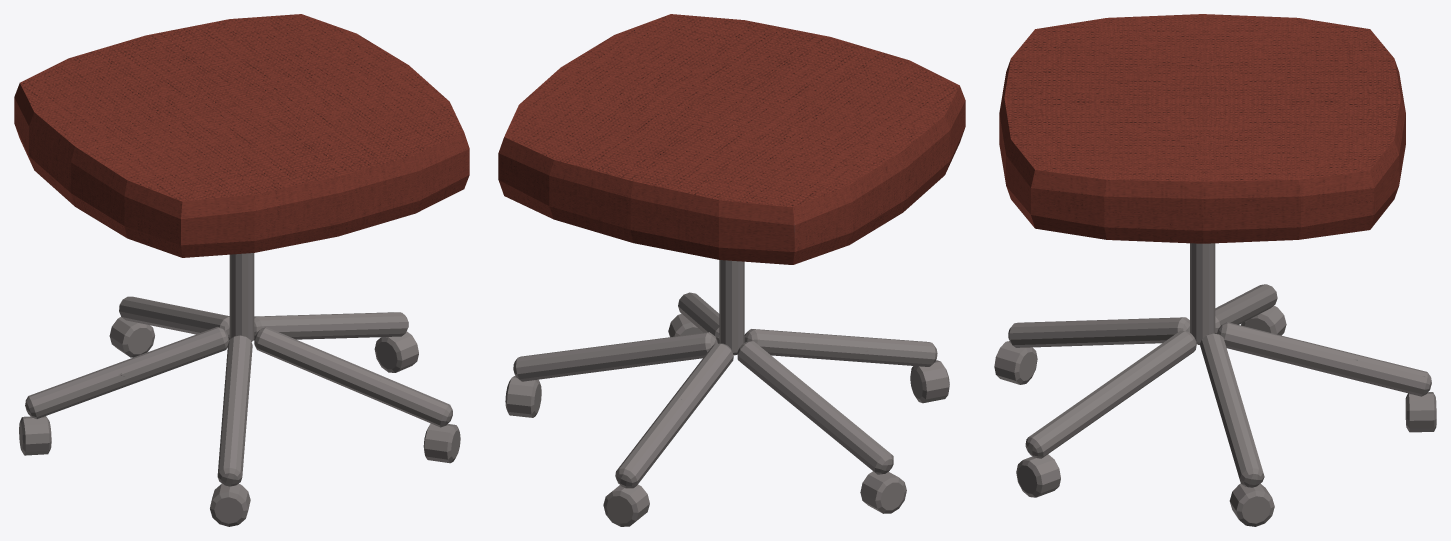
Rendered from silla.glb.
3 renders of one model, left to right at view 1: azimuth 30°, elevation 25°; view 2: azimuth 150°, elevation 25°; view 3: azimuth 270°, elevation 25°, orthographic. The views are drawn at different scales.
Parts seen in each view (by area): view 1: Asiento, Tubos, Rueditas; view 2: Asiento, Tubos, Rueditas; view 3: Asiento, Tubos, Rueditas.
Boxes of the visible parts, bbox=[...] form: Asiento: bbox=[14, 14, 469, 257]; Tubos: bbox=[25, 253, 452, 486]; Rueditas: bbox=[19, 317, 460, 526]; Asiento: bbox=[498, 14, 965, 264]; Tubos: bbox=[513, 260, 937, 488]; Rueditas: bbox=[505, 314, 949, 526]; Asiento: bbox=[999, 14, 1405, 243]; Tubos: bbox=[1008, 243, 1431, 487]; Rueditas: bbox=[994, 306, 1436, 526].
Bounding box in the file's own units: 2.41 × 1.94 × 2.31.
2 materials, 2 textured.
